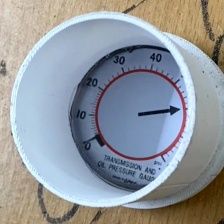gauge: (70, 45, 188, 192)
